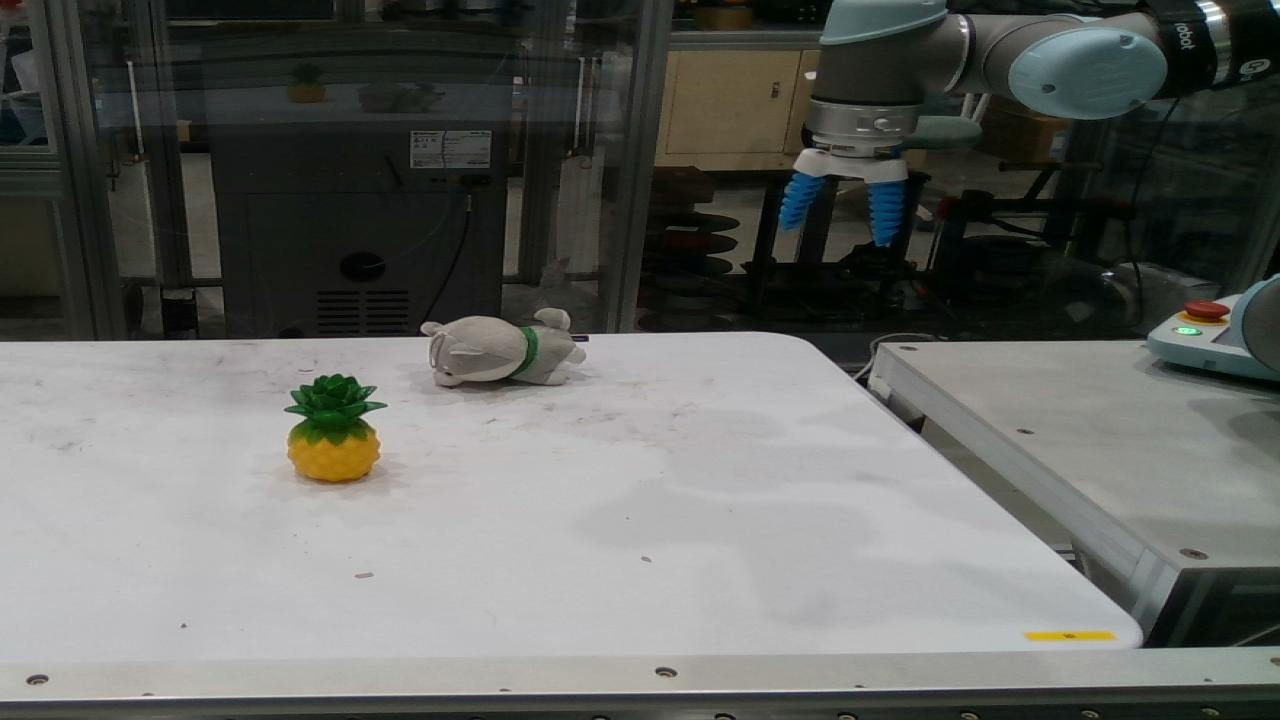UR5: (794, 0, 1279, 185), (1233, 274, 1279, 372)
gripper_left: (781, 172, 824, 231)
gripper_right: (868, 181, 904, 246)
target: (421, 308, 587, 388), (283, 373, 390, 482)
